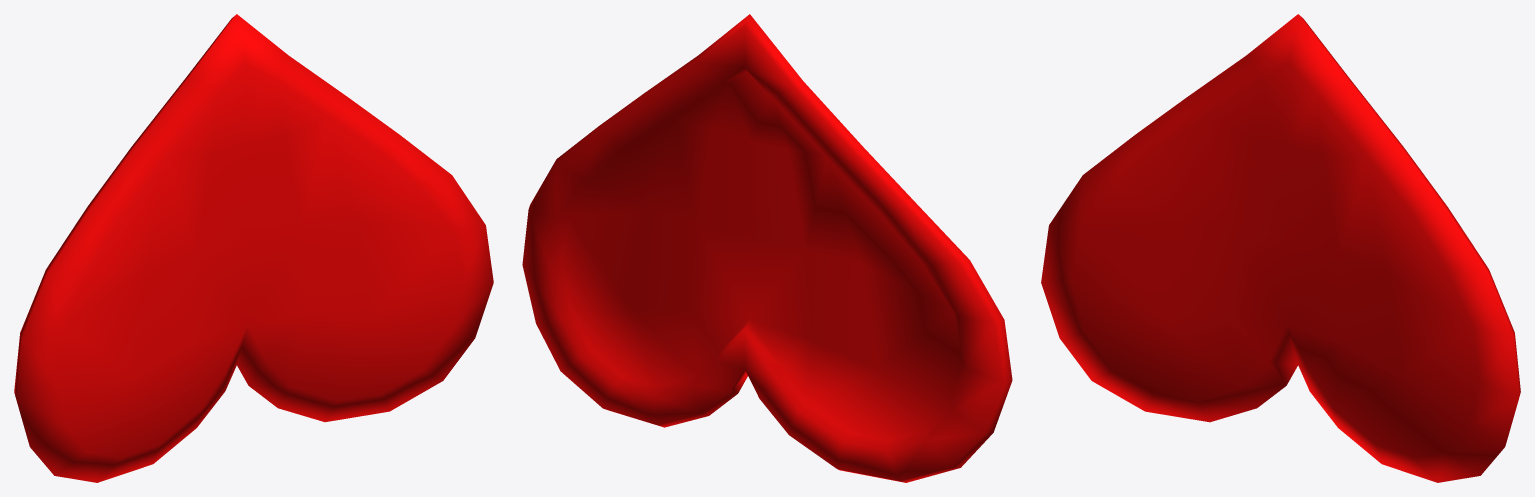
Rendered from kami_valletta_heart1.dae.
3 views of the same model, side by side, from view 1: azimuth 30°, elevation 25°; view 2: azimuth 150°, elevation 25°; view 3: azimuth 330°, elevation 25° (orthographic). The views are drawn at different scales.
Parts seen in each view (by area): view 1: o_valletta_heart1_0; view 2: o_valletta_heart1_0; view 3: o_valletta_heart1_0.
Part boxes in pixels (<box>): o_valletta_heart1_0: <box>14,14,493,482</box>; o_valletta_heart1_0: <box>522,14,1012,482</box>; o_valletta_heart1_0: <box>1041,14,1520,482</box>.
Bounding box in the file's own units: 0.037 × 0.00374 × 0.0317.
